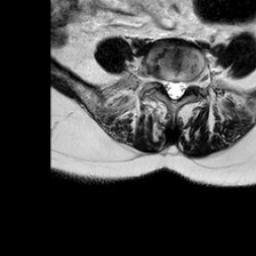CCS_normal: (169, 66, 178, 109)
LFS_stenosis: (187, 68, 195, 93)
LLS_normal: (178, 71, 187, 103)
RFS_stenosis: (154, 66, 162, 91)
RLS_normal: (162, 69, 169, 99)
